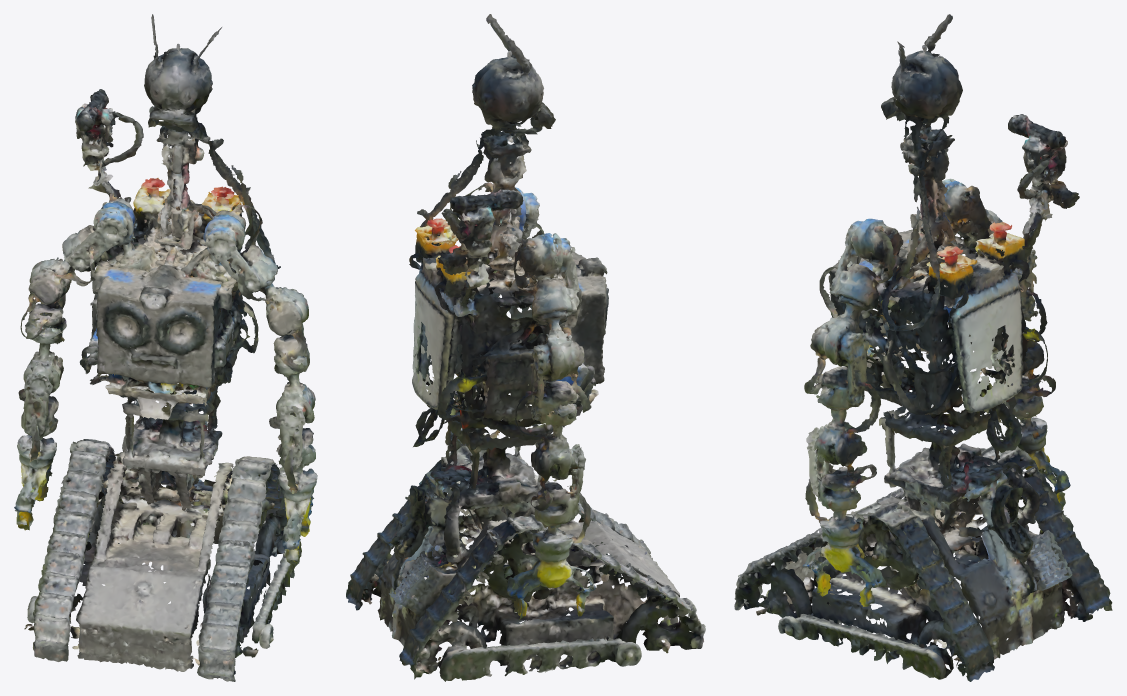
File: rob-upright.glb
3 views of the same model, side by side, from view 1: azimuth 30°, elevation 25°; view 2: azimuth 150°, elevation 25°; view 3: azimuth 270°, elevation 25° (orthographic). The views are drawn at different scales.
Parts seen in each view (by area): view 1: ROB upright; view 2: ROB upright; view 3: ROB upright.
Boxes of the visible parts, bbox=[...] form: ROB upright: bbox=[14, 14, 317, 681]; ROB upright: bbox=[346, 14, 705, 681]; ROB upright: bbox=[734, 14, 1112, 681].
Size of the model in its own units: 0.7154 by 1.32 by 0.7429.
